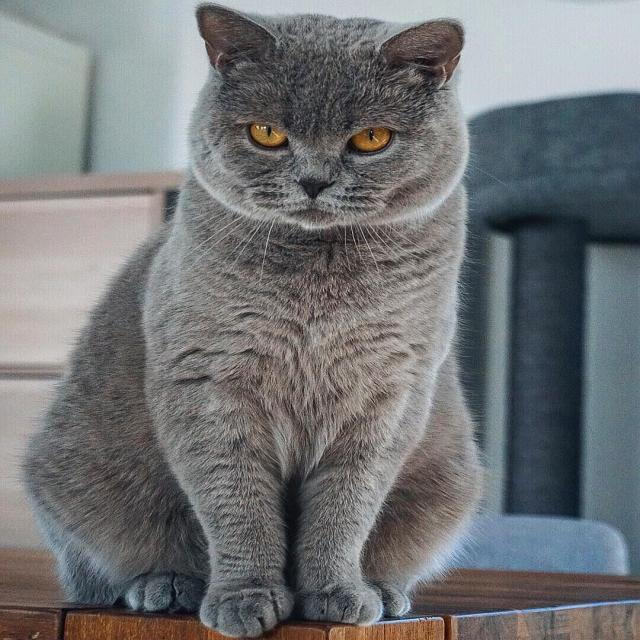british shorthair: (24, 3, 482, 638)
